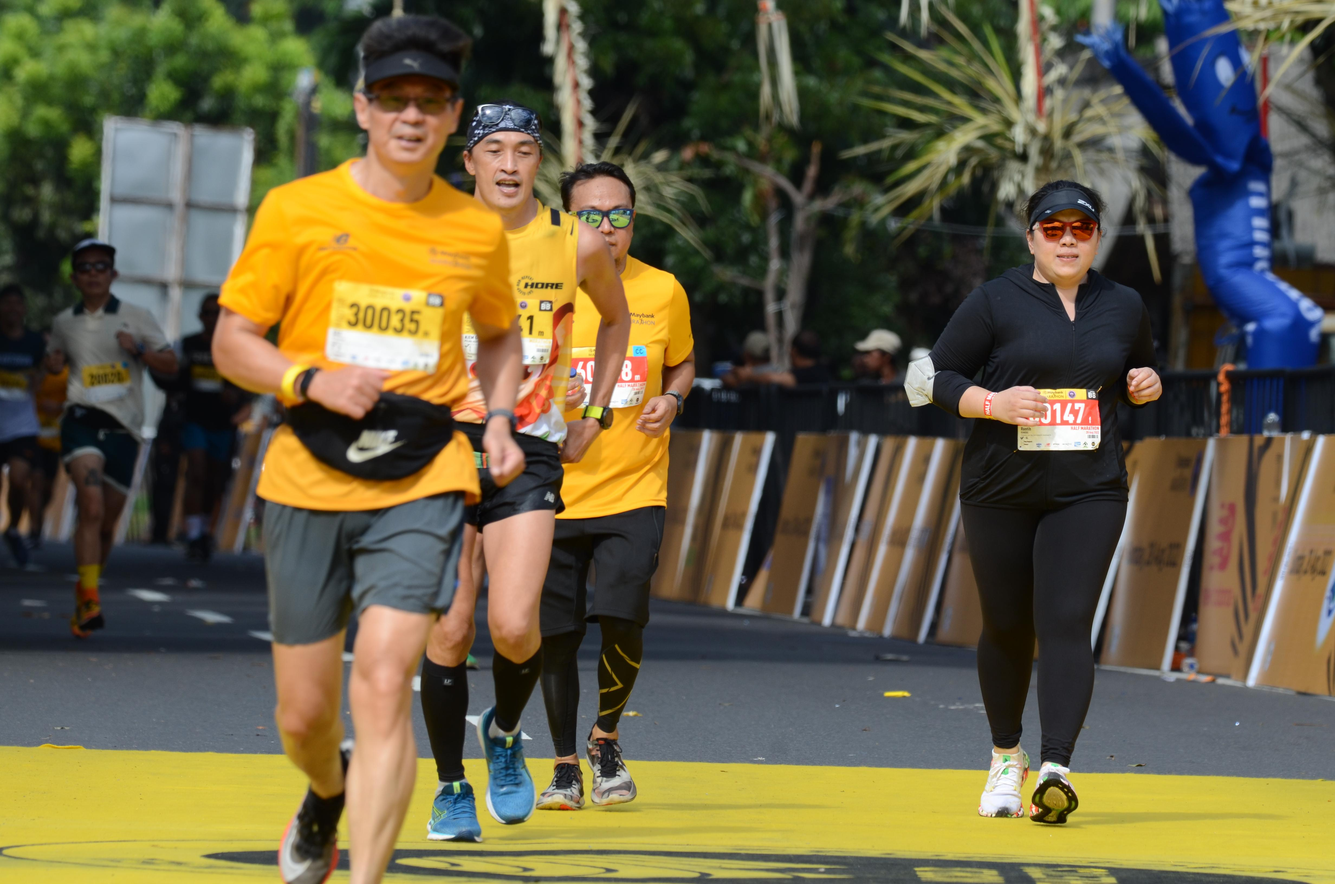bib: (330, 280, 441, 374), (1016, 387, 1101, 451), (571, 346, 647, 409), (517, 300, 549, 364), (81, 363, 130, 402), (0, 373, 28, 400), (193, 368, 221, 393)
